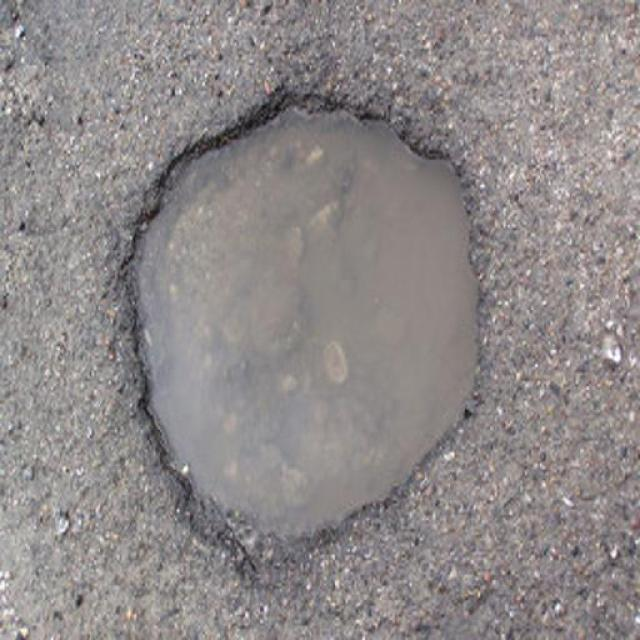puddle: (145, 114, 449, 569)
